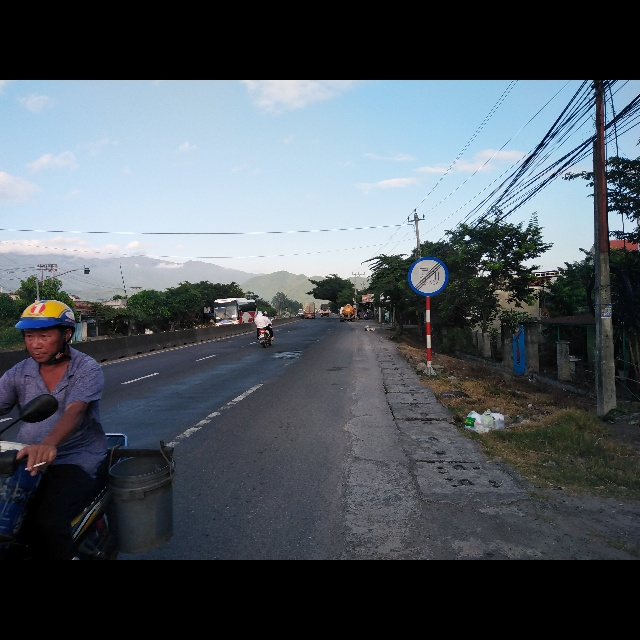Hết hạn chế tốc độ tối đa 50km/h: (406, 256, 448, 295)
